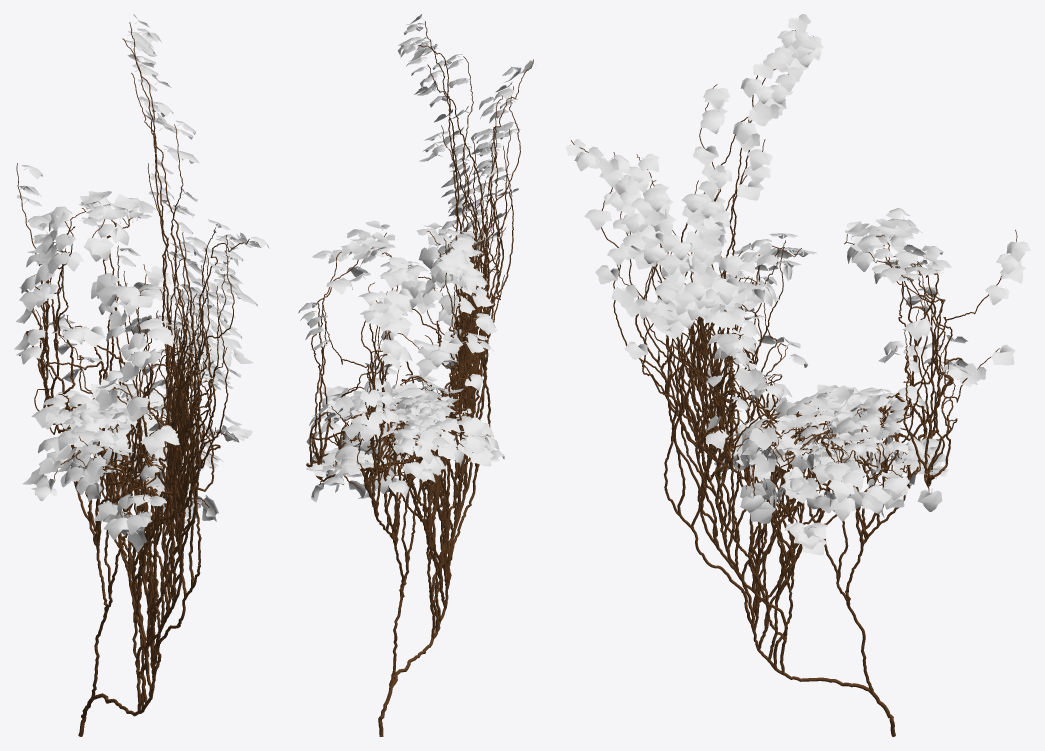
File: garden_pillar_ivy_07.fbx
3 views of the same model, side by side, from view 1: azimuth 30°, elevation 25°; view 2: azimuth 150°, elevation 25°; view 3: azimuth 270°, elevation 25° (orthographic). The views are drawn at different scales.
Visible parts, largest first — view 1: IVY_Curve; view 2: IVY_Curve; view 3: IVY_Curve.
Part boxes in pixels (x1,y1,x2,y2): IVY_Curve: (14,14,269,736); IVY_Curve: (298,14,536,736); IVY_Curve: (566,14,1030,736).
Size of the model in its own units: 4.33 by 14.77 by 8.58.
